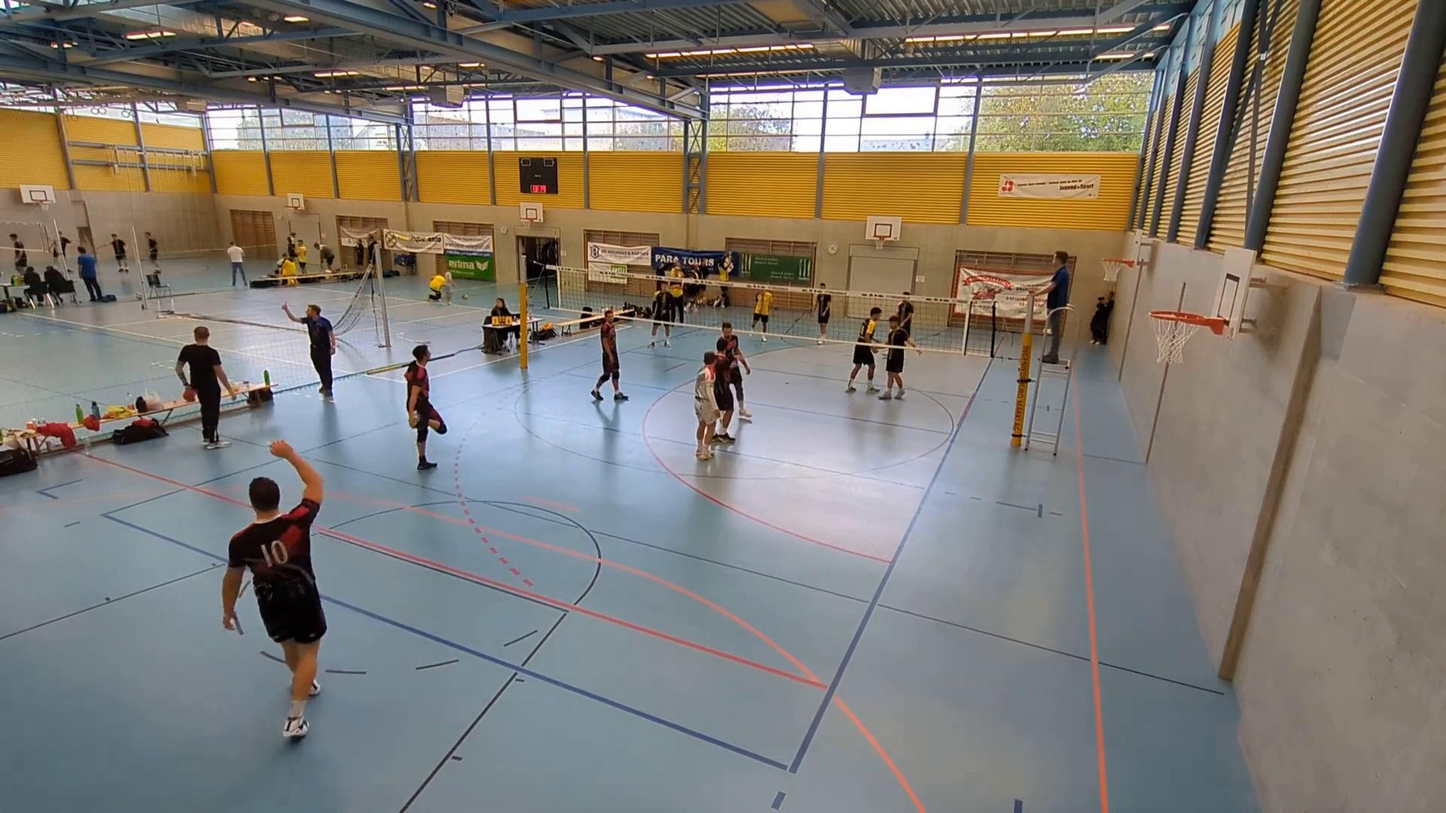Player: (218, 437, 333, 741), (404, 344, 447, 470), (692, 352, 725, 459), (590, 313, 627, 402), (719, 321, 750, 425), (847, 307, 880, 395), (878, 315, 911, 400), (648, 286, 673, 348), (813, 281, 834, 346), (892, 292, 916, 346), (750, 287, 773, 343)
